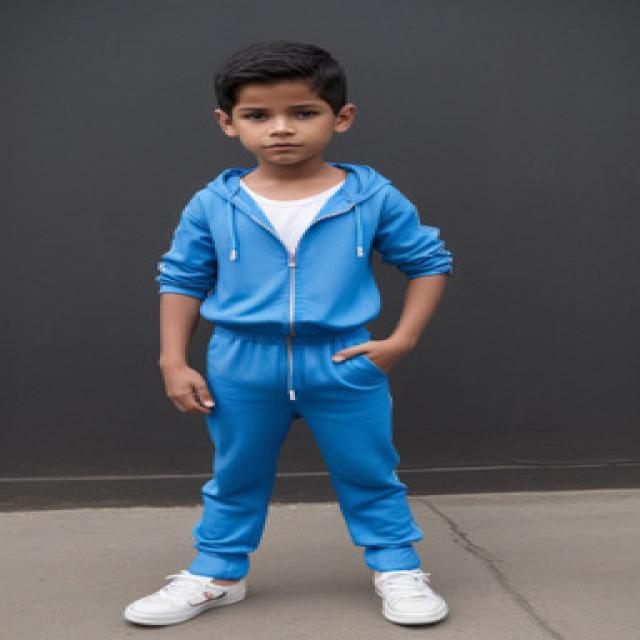Ai human 2: (130, 33, 505, 640)
